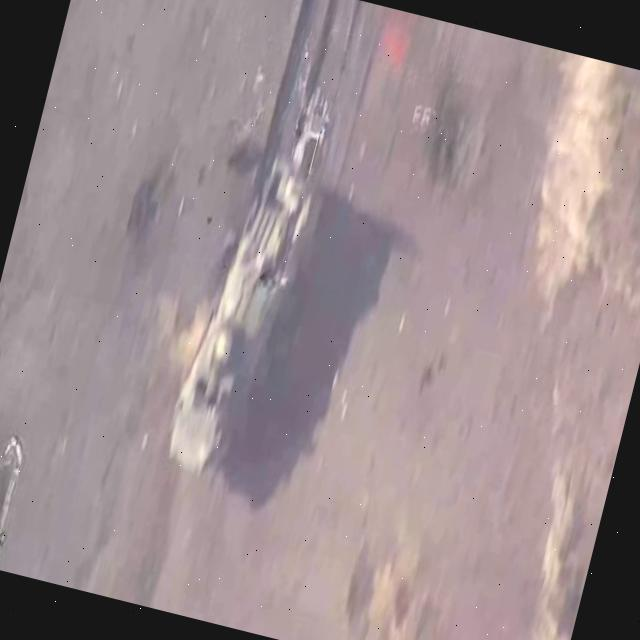APC: (163, 146, 334, 487)
